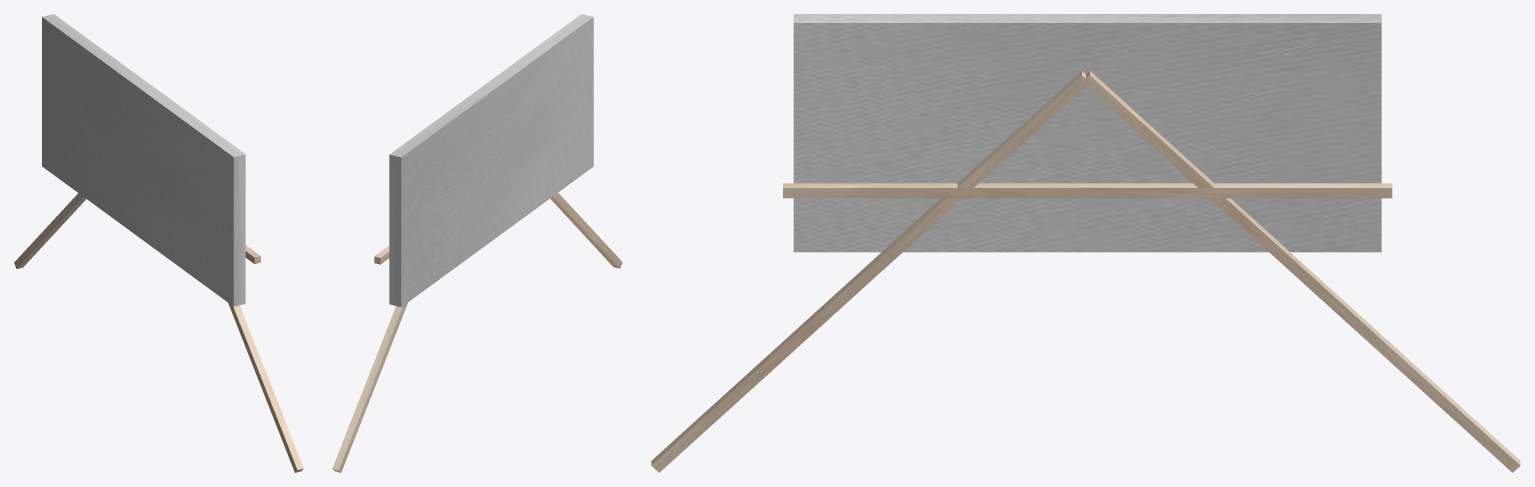
Rendered from easels.obj.
The picture shows the model from 3 angles, left to right: view 1: azimuth 30°, elevation 25°; view 2: azimuth 150°, elevation 25°; view 3: azimuth 270°, elevation 25°; orthographic projection. The views are drawn at different scales.
Visible parts, largest first — view 1: Cube.003, Cube, Cube.002; view 2: Cube.003, Cube.002, Cube; view 3: Cube.003, Cube.001, Cube, Cube.002.
Part boxes in pixels (box(x1,y1,x2,y2)): Cube.003: box(42, 14, 245, 306); Cube: box(228, 303, 303, 472); Cube.002: box(14, 193, 85, 268); Cube.003: box(389, 14, 593, 307); Cube.002: box(332, 303, 407, 472); Cube: box(550, 193, 622, 268); Cube.003: box(793, 14, 1381, 252); Cube.001: box(783, 183, 1392, 198); Cube: box(651, 71, 1089, 472); Cube.002: box(1082, 71, 1520, 472).
Size of the model in its own units: 0.3207 by 3.72 by 6.64.
Materials: 4 (4 with a texture image).
